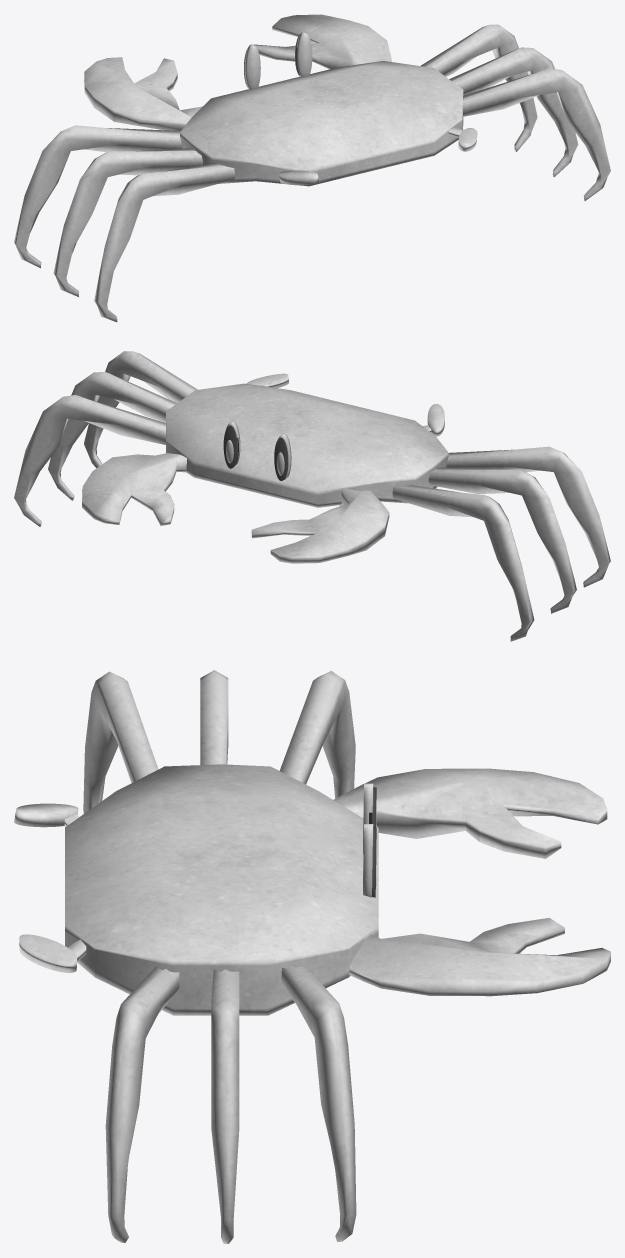
File: CrabTemplate.obj
3 views of the same model, one above another, from view 1: azimuth 30°, elevation 25°; view 2: azimuth 150°, elevation 25°; view 3: azimuth 270°, elevation 25° (orthographic). The views are drawn at different scales.
Parts seen in each view (by area): view 1: Body1, Lleg11, Rleg31, Lleg21, Lleg31, Rleg21, Rleg11; view 2: Body1, Rleg11, Lleg31, Lleg21, Lleg11, Rleg21, Rleg31, Meshescrabeyes1; view 3: Body1, Rleg31, Rleg11, Rleg21, Lleg31, Lleg11, Lleg21.
Boxes of the visible parts, x1,y1,x2,y2 form: Body1: (84,14,477,186); Lleg11: (14,125,182,268); Rleg31: (463,68,610,200); Lleg21: (53,148,202,296); Lleg31: (94,163,234,322); Rleg21: (449,47,578,177); Rleg11: (421,24,537,151); Body1: (82,373,448,563); Rleg11: (14,395,165,526); Lleg31: (446,446,610,587); Lleg21: (428,467,576,613); Lleg11: (392,485,534,641); Rleg21: (48,372,176,500); Rleg31: (84,351,197,468); Meshescrabeyes1: (223,425,288,480); Body1: (14,764,610,1015); Rleg31: (105,967,179,1242); Rleg11: (281,966,356,1241); Rleg21: (211,969,239,1243); Lleg31: (83,671,158,813); Lleg11: (279,671,355,798); Lleg21: (200,670,228,764).
Bounding box in the file's own units: 8.92 × 2.62 × 5.48.
3 materials, 2 textured.
